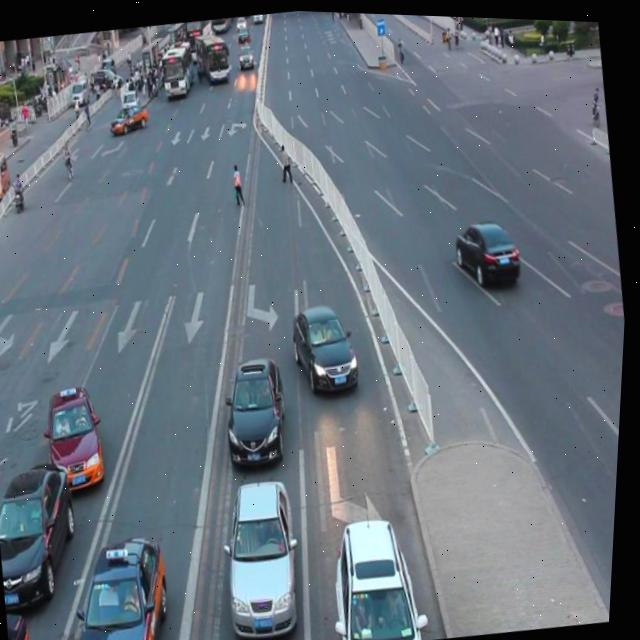car: (215, 468, 315, 640), (0, 453, 94, 615), (328, 504, 436, 640), (65, 522, 189, 640), (219, 349, 300, 468), (41, 378, 117, 496), (289, 294, 367, 395), (452, 209, 527, 285), (11, 605, 44, 640)
